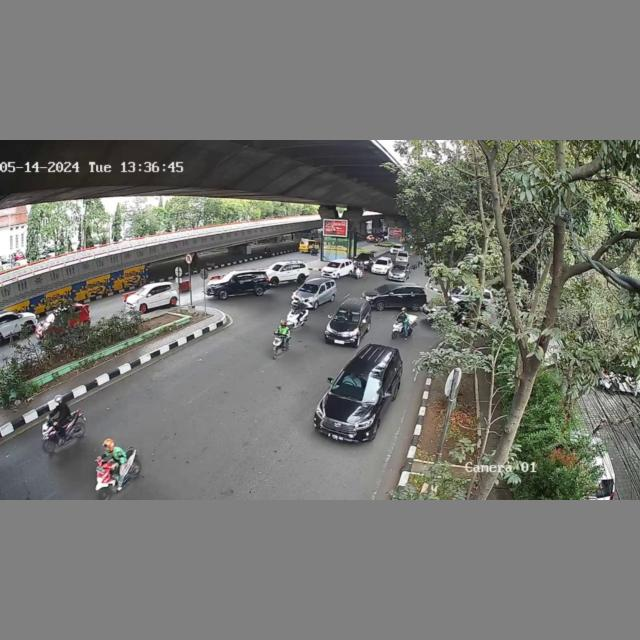windshield: (332, 369, 382, 402), (334, 306, 362, 324), (299, 283, 318, 293)
